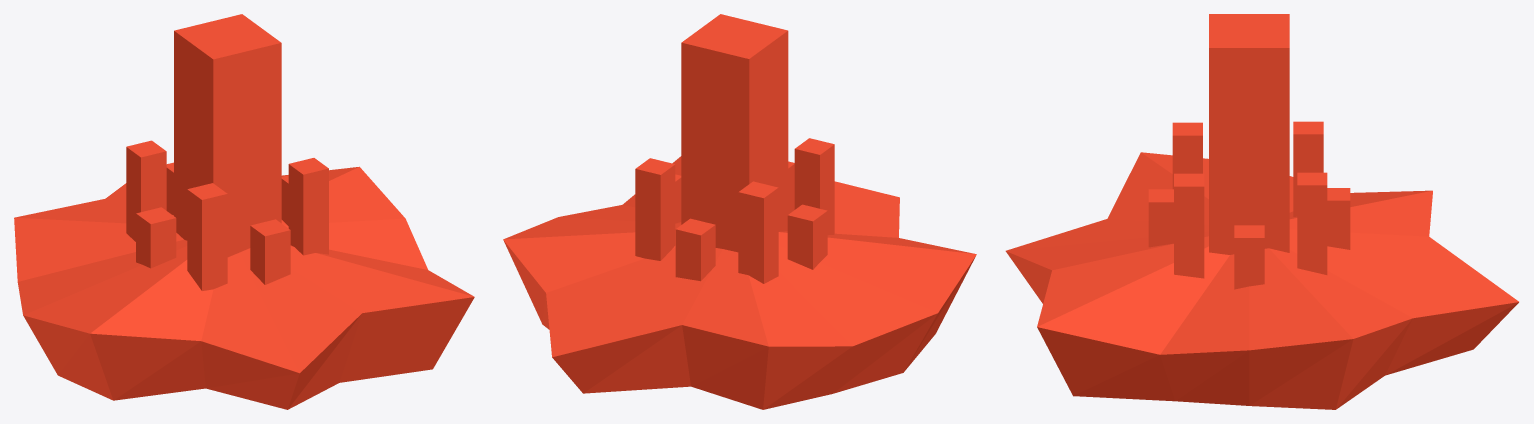
File: region-ashen.glb
3 views of the same model, side by side, from view 1: azimuth 30°, elevation 25°; view 2: azimuth 150°, elevation 25°; view 3: azimuth 270°, elevation 25° (orthographic). The views are drawn at different scales.
Visible parts, largest first — view 1: ATLAS demo region: ashen; view 2: ATLAS demo region: ashen; view 3: ATLAS demo region: ashen.
Part boxes in pixels (bbox=[...]): ATLAS demo region: ashen: bbox=[14, 14, 474, 409]; ATLAS demo region: ashen: bbox=[503, 14, 976, 409]; ATLAS demo region: ashen: bbox=[1005, 14, 1518, 409].
Bounding box in the file's own units: 4.54 × 3.35 × 5.1.
